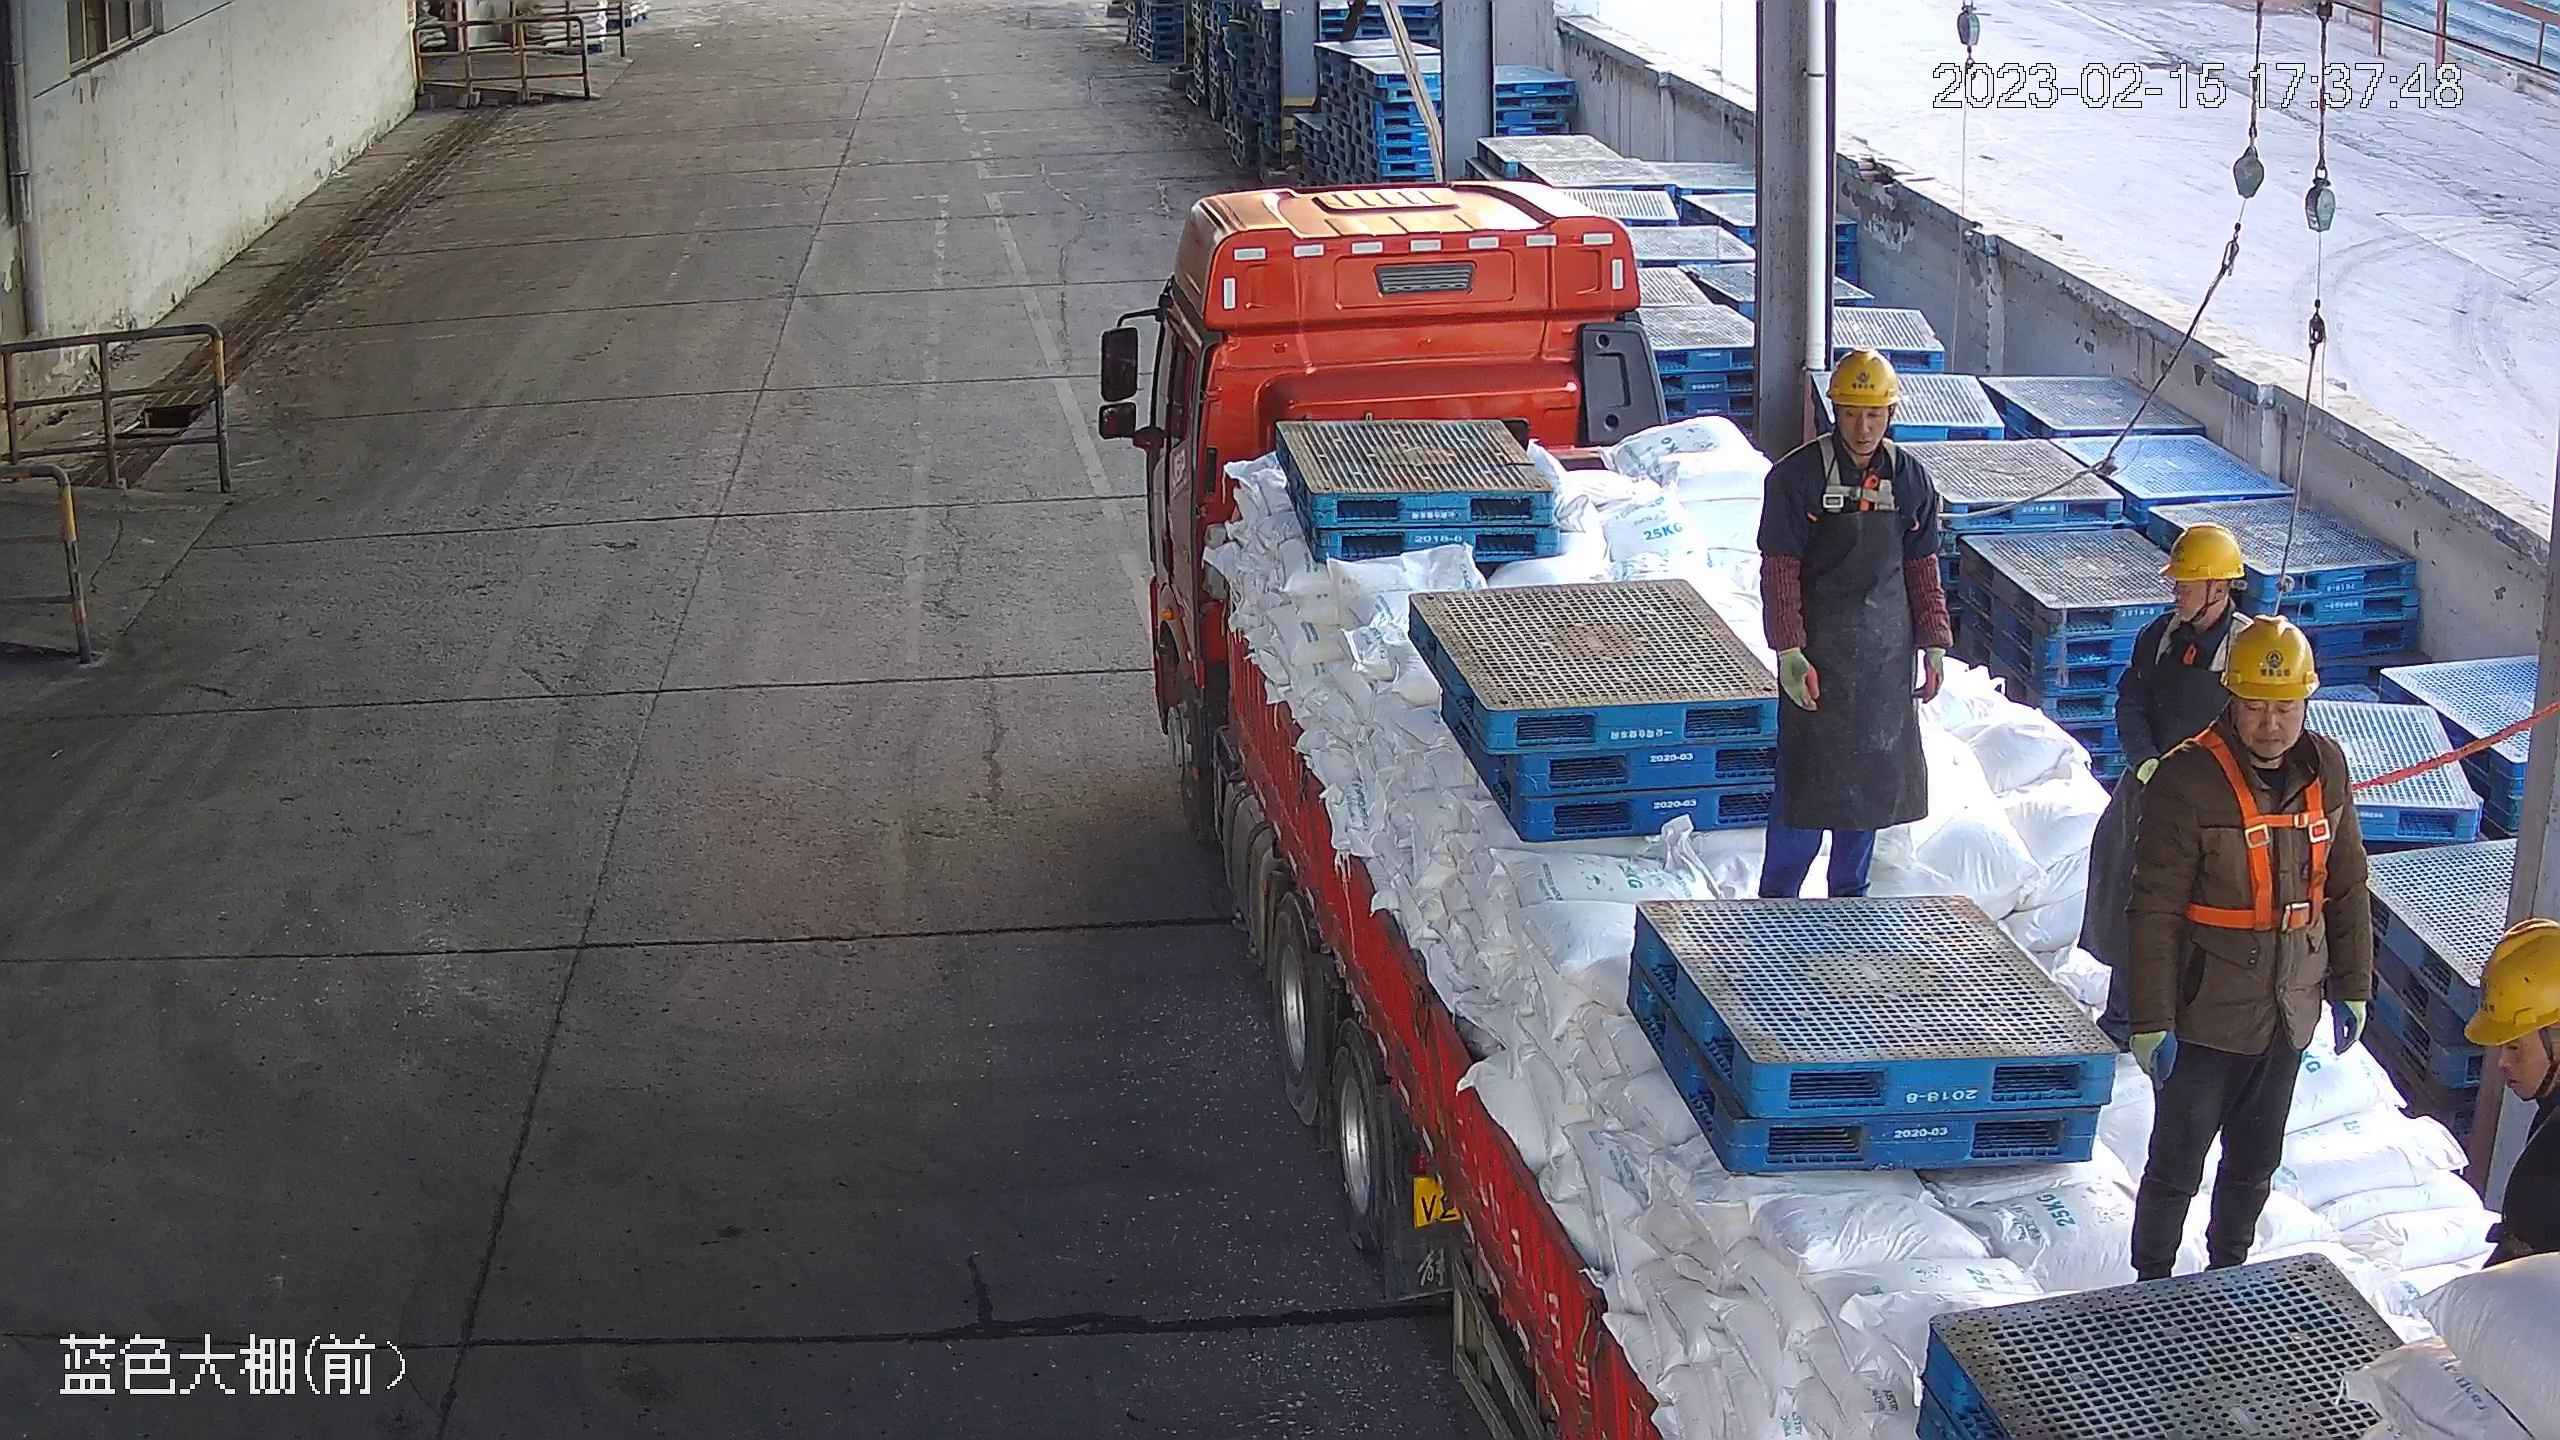belt: (2184, 729, 2333, 927), (2155, 607, 2255, 683), (1809, 435, 1907, 509)
head: (2147, 618, 2359, 827), (2459, 906, 2560, 1262), (1764, 347, 1934, 518), (2100, 511, 2249, 686)
helmet: (2466, 920, 2560, 1052), (2222, 616, 2322, 701), (2159, 524, 2246, 585), (1823, 348, 1903, 408)
people: (2123, 622, 2376, 1288), (1759, 347, 1951, 903), (2079, 518, 2247, 1061)
truck: (1100, 174, 2560, 1440)
